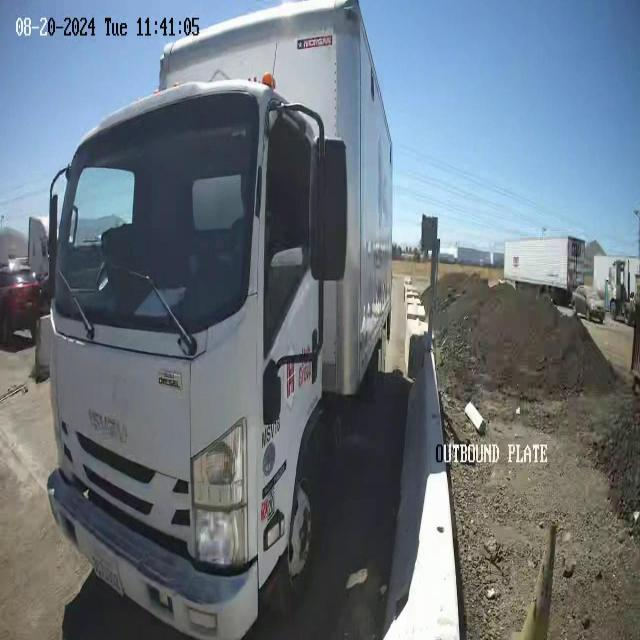TRUCK_OUT: (42, 1, 396, 638)
